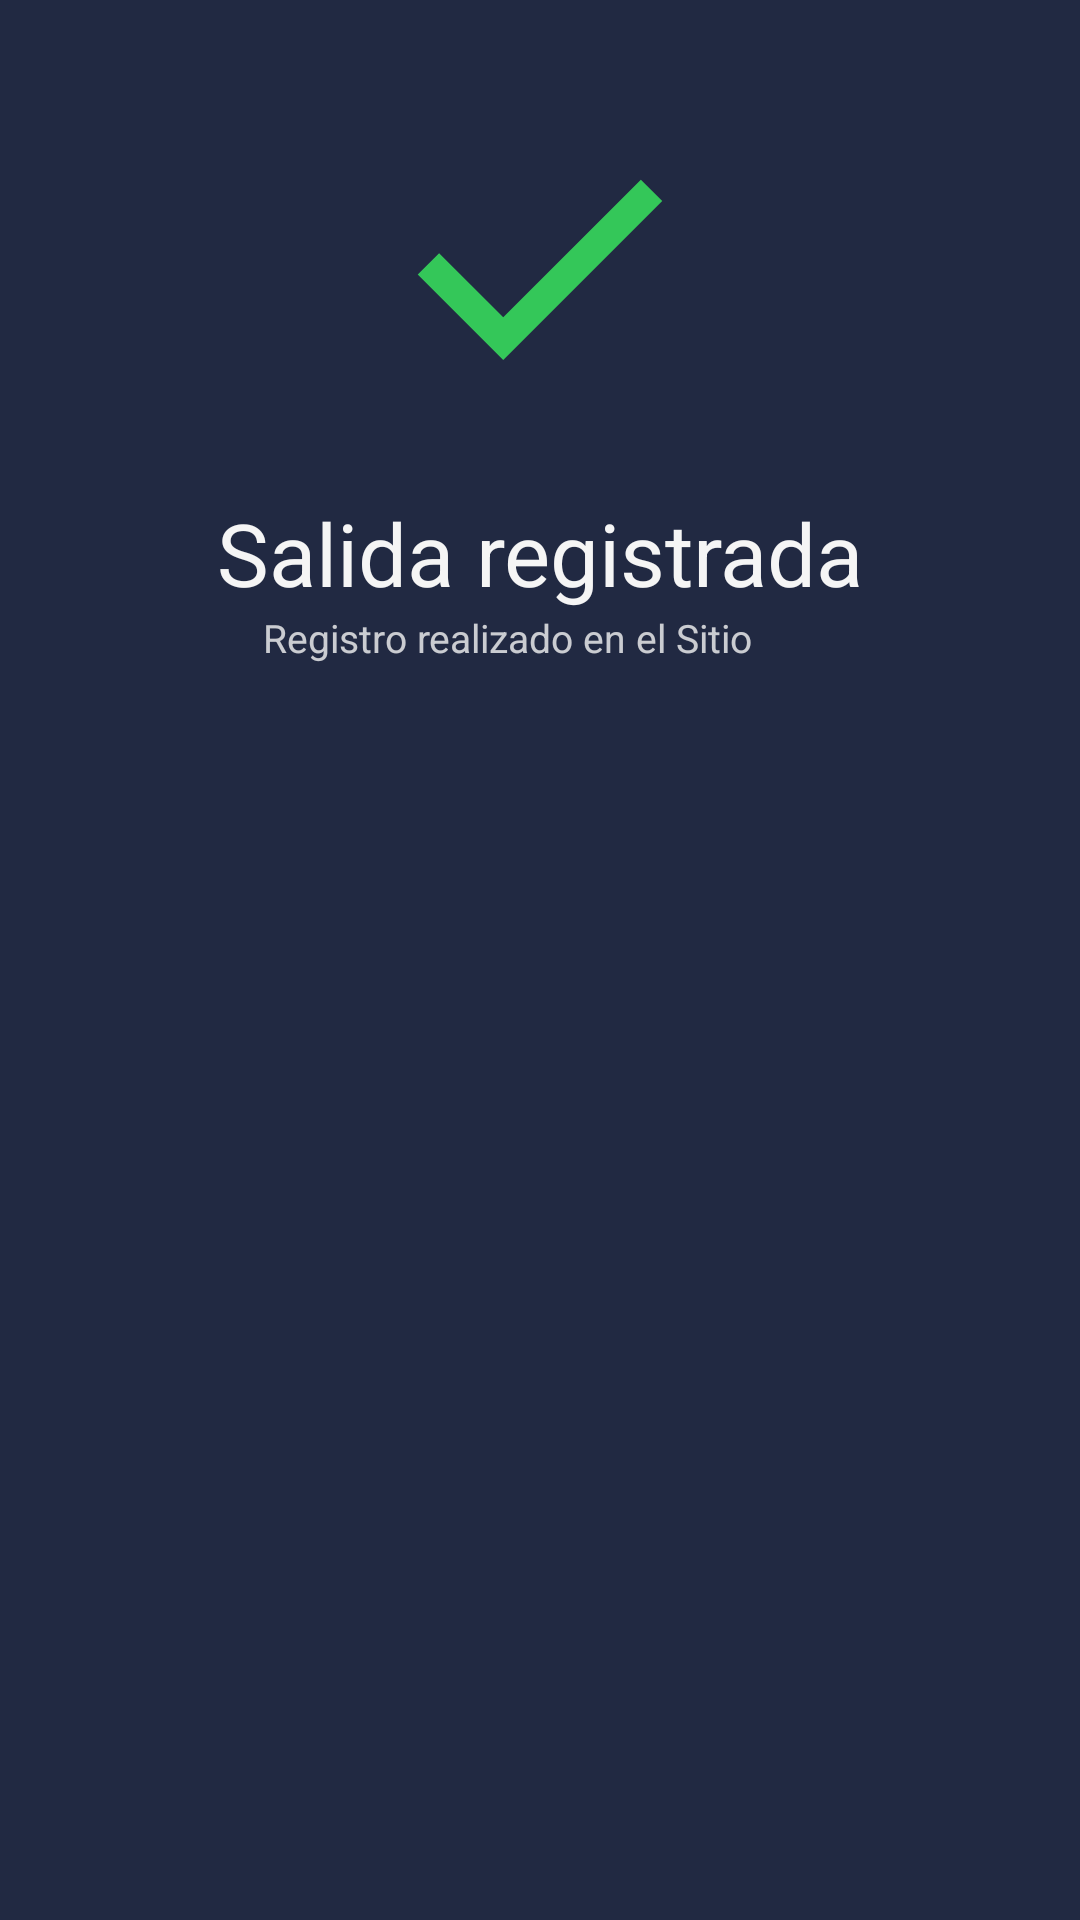

Icon click points for this 1080×1920 phone screenshot, format (x,y):
verificado: (540,270)
